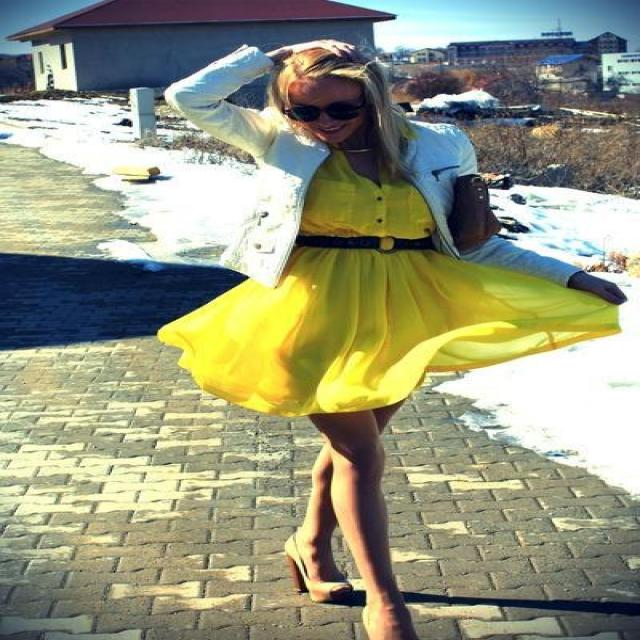dress: (158, 161, 620, 416)
jacket: (165, 45, 579, 287)
shoe: (312, 558, 349, 583)
sunglass: (282, 90, 378, 122)
